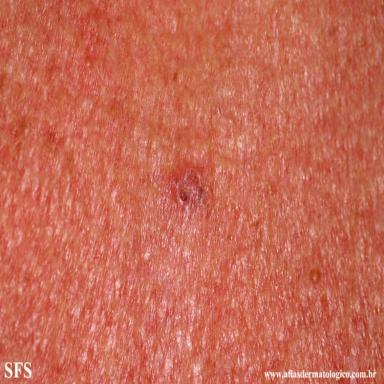basal-cell-carcinoma: (173, 164, 205, 209)
